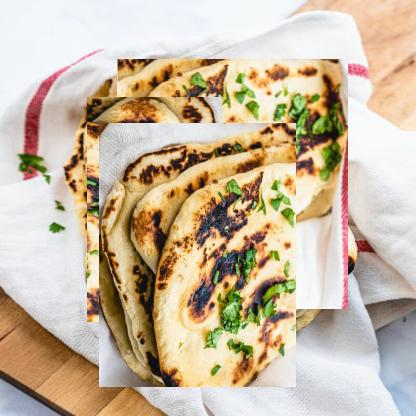naan: (112, 64, 353, 305), (81, 140, 313, 370), (86, 96, 222, 322)
